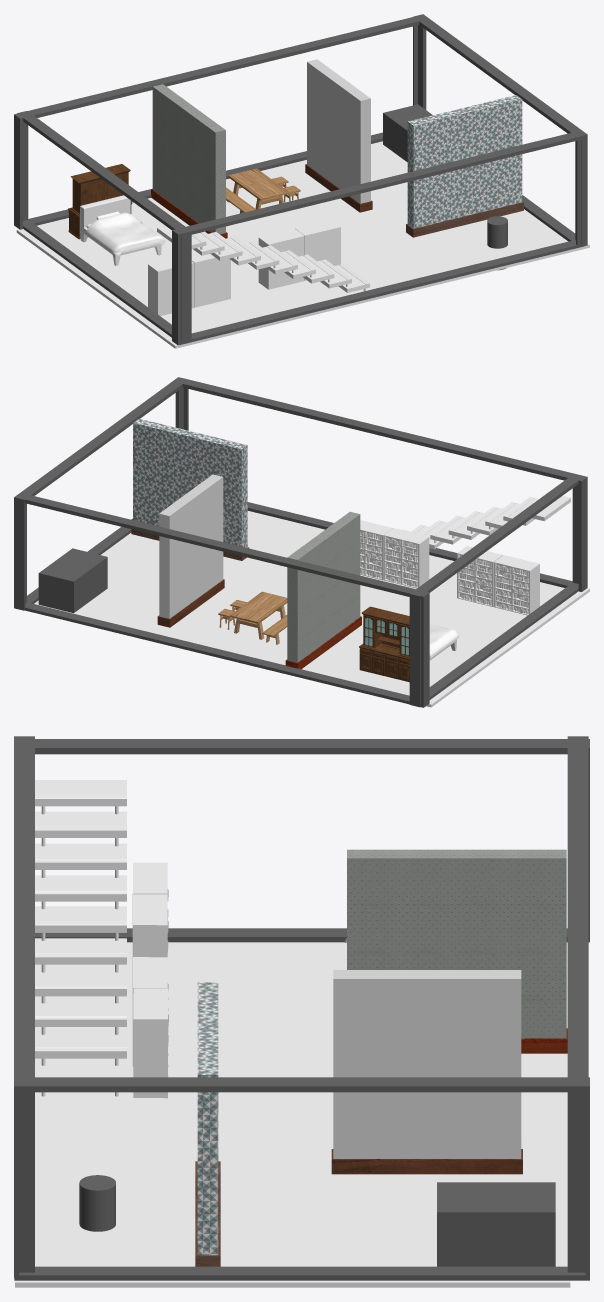
Rendered from map.fbx.
3 views of the same model, one above another, from view 1: azimuth 30°, elevation 25°; view 2: azimuth 150°, elevation 25°; view 3: azimuth 270°, elevation 25° (orthographic). The views are drawn at different scales.
Visible parts, largest first — view 1: yuka_floor, gaido1, wall, wall2, wall1, pCube45, honndana2, pasted__polySurface4, honndana1, honndana3, honndana, sinkunoyounamono (+11 smaller); view 2: gaido1, yuka_floor, wall, wall2, wall1, sinkunoyounamono, honndana3, honndana, honndana2, honndana1, table, pasted__polySurface4 (+5 smaller); view 3: yuka_floor, gaido1, wall1, wall2, sinkunoyounamono, wall, honndana1, pCube31, pCube36, pCube32, pCube29, pCube35 (+9 smaller).
Part boxes in pixels (x1,y1,x2,y2): yuka_floor: [16, 141, 589, 348]; gaido1: [14, 14, 587, 345]; wall: [406, 95, 523, 237]; wall2: [151, 84, 227, 238]; wall1: [305, 59, 372, 212]; pCube45: [85, 212, 165, 256]; honndana2: [191, 252, 230, 307]; pasted__polySurface4: [70, 164, 130, 215]; honndana1: [295, 220, 340, 280]; honndana3: [148, 258, 194, 316]; honndana: [258, 228, 304, 289]; sinkunoyounamono: [383, 104, 432, 162]; gaido1: [14, 377, 587, 707]; yuka_floor: [34, 511, 589, 707]; wall: [131, 418, 249, 560]; wall2: [285, 511, 361, 669]; wall1: [157, 474, 224, 627]; sinkunoyounamono: [38, 548, 107, 613]; honndana3: [493, 555, 539, 615]; honndana: [383, 528, 429, 588]; honndana2: [457, 546, 502, 606]; honndana1: [360, 520, 392, 580]; table: [230, 591, 287, 639]; pasted__polySurface4: [361, 606, 409, 657]; yuka_floor: [15, 942, 570, 1287]; gaido1: [14, 736, 589, 1280]; wall1: [331, 970, 522, 1174]; wall2: [347, 849, 567, 1053]; sinkunoyounamono: [437, 1182, 555, 1266]; wall: [195, 982, 220, 1266]; honndana1: [133, 988, 168, 1098]; pCube31: [35, 969, 126, 996]; pCube36: [35, 780, 126, 806]; pCube32: [35, 938, 126, 964]; pCube29: [35, 1032, 126, 1058]; pCube35: [35, 875, 126, 901].
Bounding box in the file's own units: 2004 × 612 × 1377.
14 materials, 6 textured.
